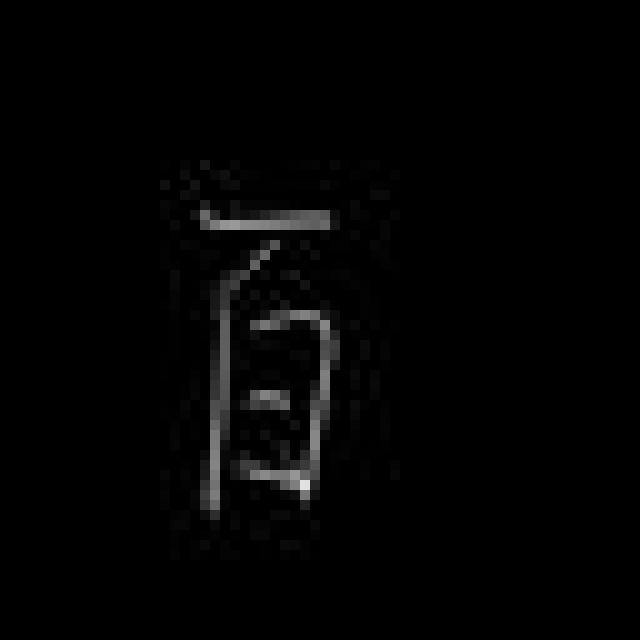100 -a hundred-: (172, 190, 352, 518)
